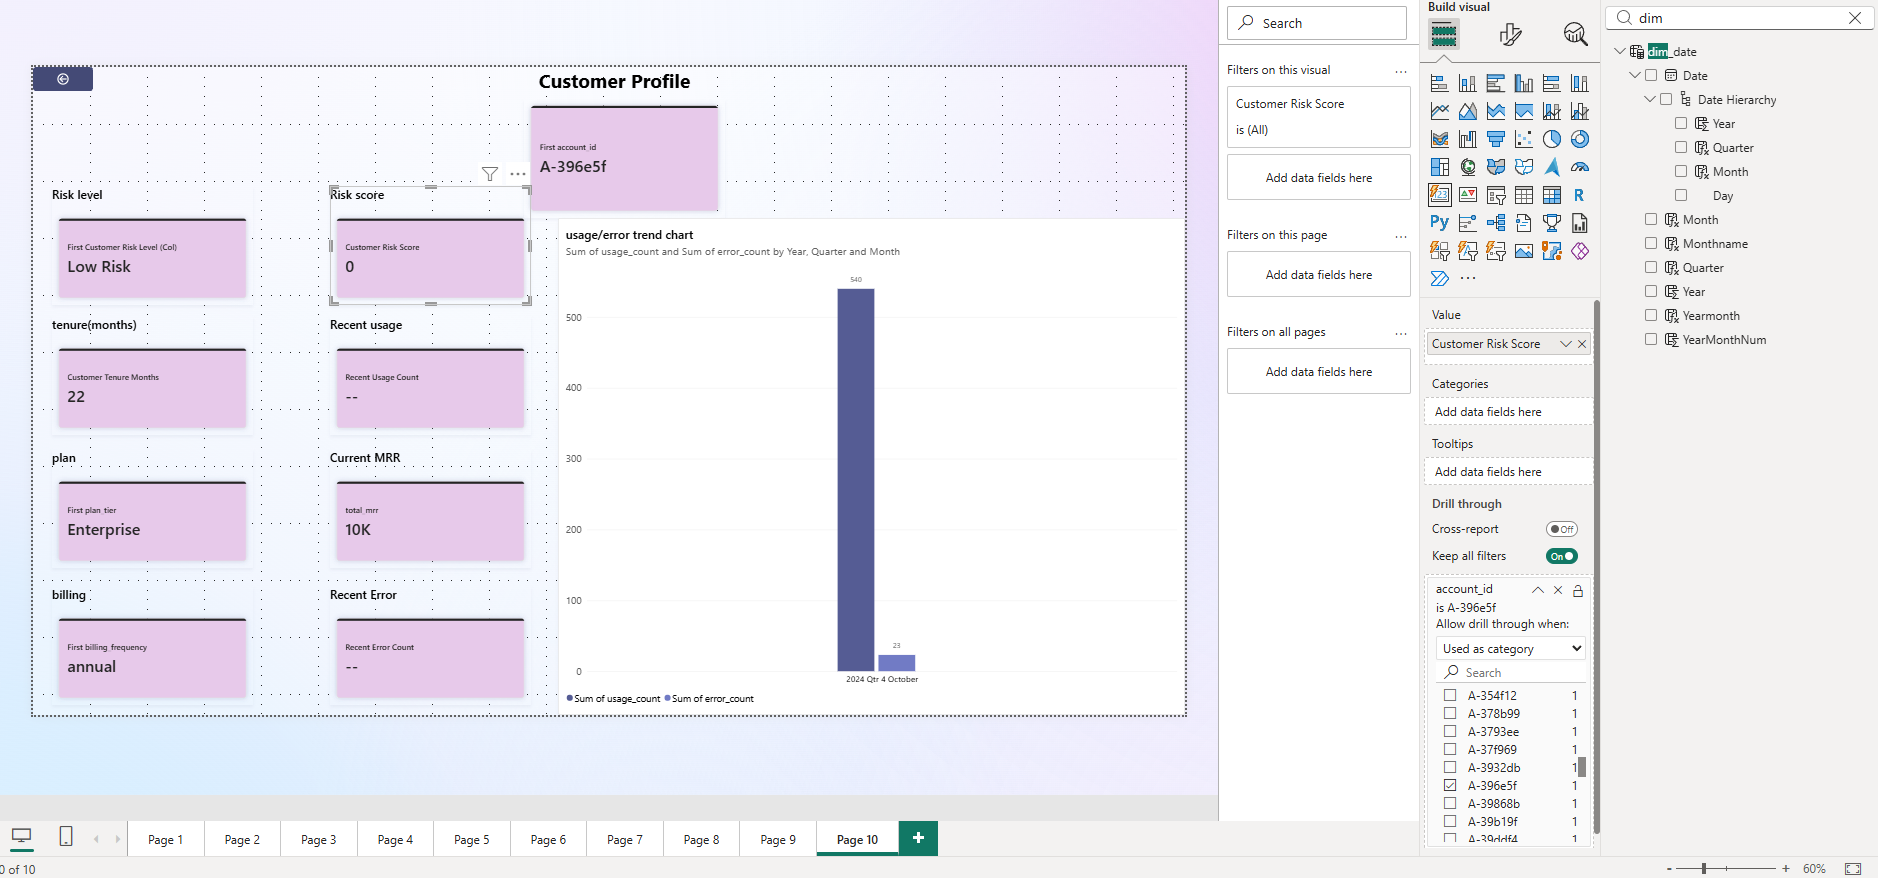

What the dashboard file says about the page in this screenshot:
{"tool":"powerbi","page":{"name":"Page 10","canvas":[1920,1080],"ordinal":9},"visuals":[{"type":"textbox","box":[10,0,1910,53.3],"z":0},{"type":"actionButton","box":[0,0,100,40],"z":1},{"type":"cardVisual","title":"first account_id","fields":{"Data":["Min(accounts.account_id)"]},"box":[818.3,53.3,335,198.3],"z":3},{"type":"cardVisual","title":"billing","fields":{"Data":["Min(subscriptions.billing_frequency)"]},"box":[31.7,865,335,198.3],"z":4},{"type":"cardVisual","title":"plan","fields":{"Data":["Min(accounts.plan_tier)"]},"box":[31.7,636.7,335,198.3],"z":5},{"type":"cardVisual","title":"tenure(months)","fields":{"Data":["Churn Reduction %.Customer Tenure Months"]},"box":[31.7,415,335,198.3],"z":6},{"type":"cardVisual","title":"Risk level","fields":{"Data":["Min(accounts.Customer Risk Level (Col))"]},"box":[31.7,198.3,335,198.3],"z":8},{"type":"cardVisual","title":"Risk score","fields":{"Data":["_Measures.Customer Risk Score"]},"box":[495,198.3,335,198.3],"z":9},{"type":"cardVisual","title":"Current MRR","fields":{"Data":["_Measures.total_mrr"]},"box":[495,636.7,335,198.3],"z":10},{"type":"cardVisual","title":"Recent Error","fields":{"Data":["_Measures.Recent Error Count"]},"box":[495,865,335,198.3],"z":11},{"type":"cardVisual","title":"Recent usage","fields":{"Data":["_Measures.Recent Usage Count"]},"box":[495,415,335,198.3],"z":12},{"type":"lineClusteredColumnComboChart","title":"usage/error trend chart","fields":{"Y":["Sum(feature_usage.usage_count)","Sum(feature_usage.error_count)"],"Category":["dim_date.Date.Variation.Date Hierarchy.Year","dim_date.Date.Variation.Date Hierarchy.Quarter","dim_date.Date.Variation.Date Hierarchy.Month","dim_date.Date.Variation.Date Hierarchy.Day"]},"box":[875,251.7,1045,828.3],"z":13}]}

Visuals, with their boxes on the page's 1920x1080 design canvas (x1, y1, x2, y2). These are canvas units, not pixel positions in the 1878x878 screenshot, which may show the page scaled, cropped or inside an application window:
textbox: bbox(10, 0, 1920, 53)
actionButton: bbox(0, 0, 100, 40)
"first account_id" cardVisual: bbox(818, 53, 1153, 252)
"billing" cardVisual: bbox(32, 865, 367, 1063)
"plan" cardVisual: bbox(32, 637, 367, 835)
"tenure(months)" cardVisual: bbox(32, 415, 367, 613)
"Risk level" cardVisual: bbox(32, 198, 367, 397)
"Risk score" cardVisual: bbox(495, 198, 830, 397)
"Current MRR" cardVisual: bbox(495, 637, 830, 835)
"Recent Error" cardVisual: bbox(495, 865, 830, 1063)
"Recent usage" cardVisual: bbox(495, 415, 830, 613)
"usage/error trend chart" lineClusteredColumnComboChart: bbox(875, 252, 1920, 1080)
